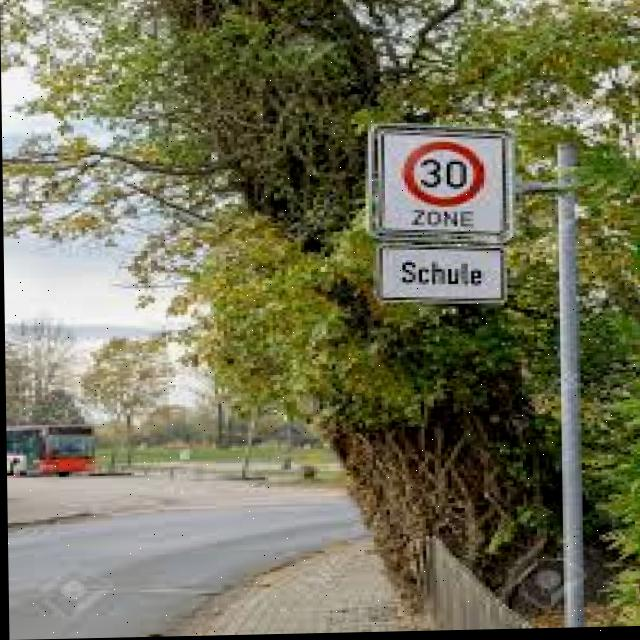Speed limit 30: (398, 140, 486, 208)
